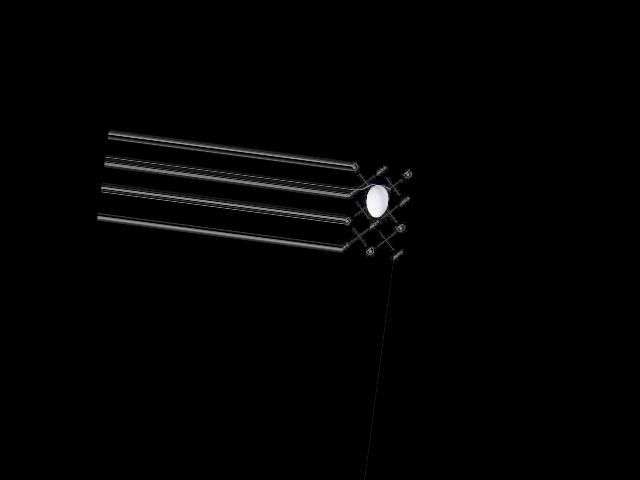egg: (363, 183, 390, 218)
